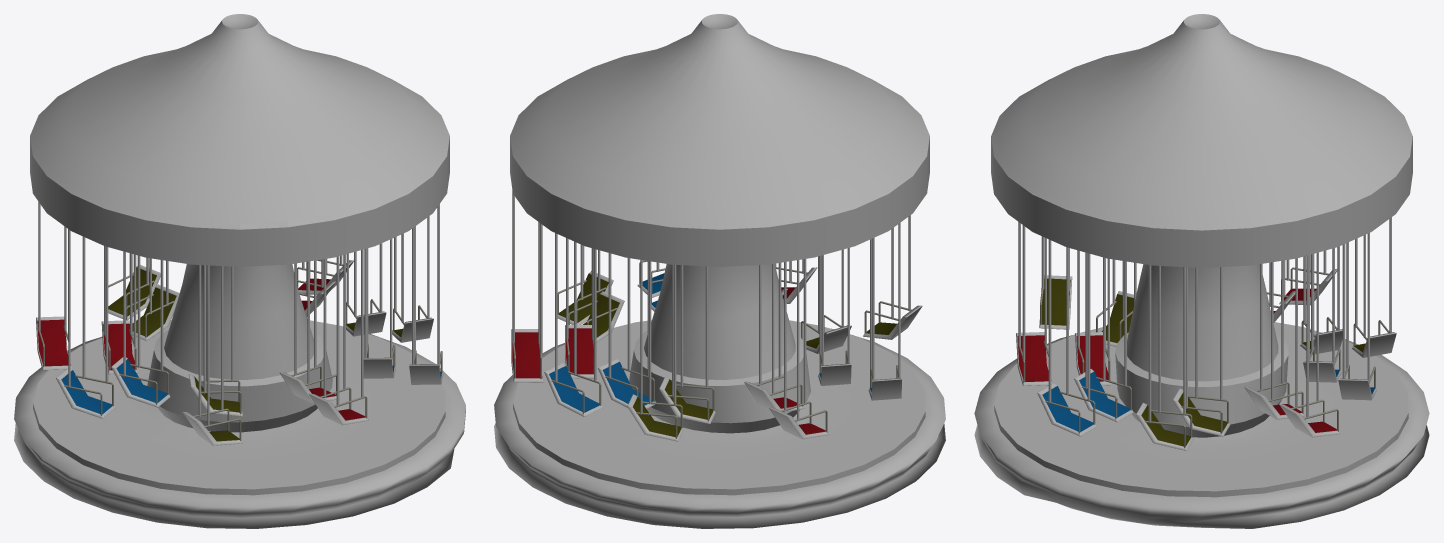
Rendered from slideride.fbx.
3 renders of one model, left to right at view 1: azimuth 30°, elevation 25°; view 2: azimuth 150°, elevation 25°; view 3: azimuth 270°, elevation 25°, orthographic.
Parts seen in each view (by area): view 1: pCube21, pCylinder2, pCylinder1; view 2: pCylinder2, pCube21, pCylinder1; view 3: pCylinder2, pCube21, pCylinder1, pCylinder5.
Boxes of the visible parts, bbox=[...] form: pCube21: bbox=[33, 201, 445, 495]; pCylinder2: bbox=[30, 14, 449, 266]; pCylinder1: bbox=[14, 334, 465, 528]; pCylinder2: bbox=[510, 14, 929, 266]; pCube21: bbox=[511, 191, 925, 495]; pCylinder1: bbox=[494, 328, 945, 528]; pCylinder2: bbox=[991, 14, 1412, 267]; pCube21: bbox=[994, 217, 1408, 497]; pCylinder1: bbox=[974, 335, 1429, 528]; pCylinder5: bbox=[1022, 225, 1025, 359].
Bounding box in the file's own units: 42.41 × 43.55 × 42.41.
